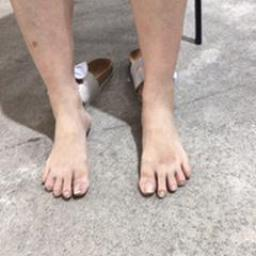Front View -Both Feet-: (32, 70, 197, 212)
